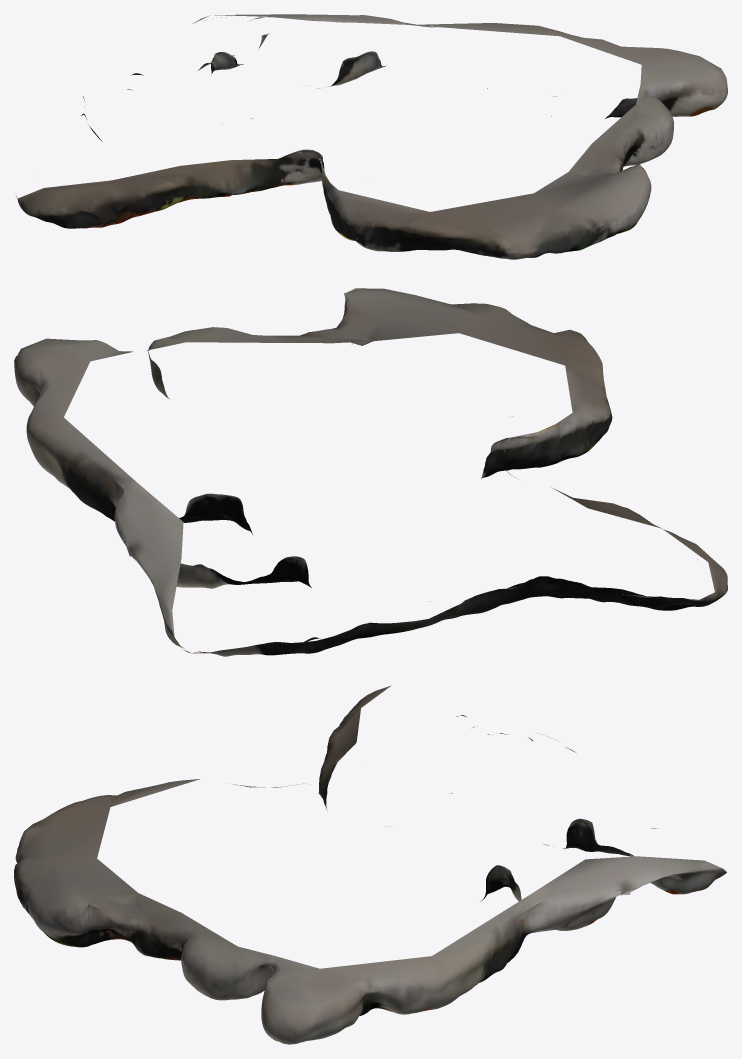
The picture shows the model from 3 angles, top to bottom: view 1: azimuth 30°, elevation 25°; view 2: azimuth 150°, elevation 25°; view 3: azimuth 270°, elevation 25°; orthographic projection. The views are drawn at different scales.
Bounding box in the file's own units: 0.9321 × 0.0814 × 0.8265.
1 material, 1 textured.
